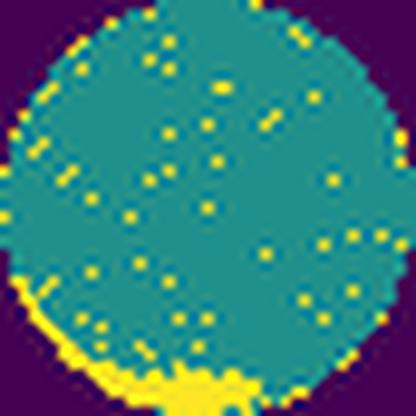Edge-Loc: (3, 273, 267, 416)
